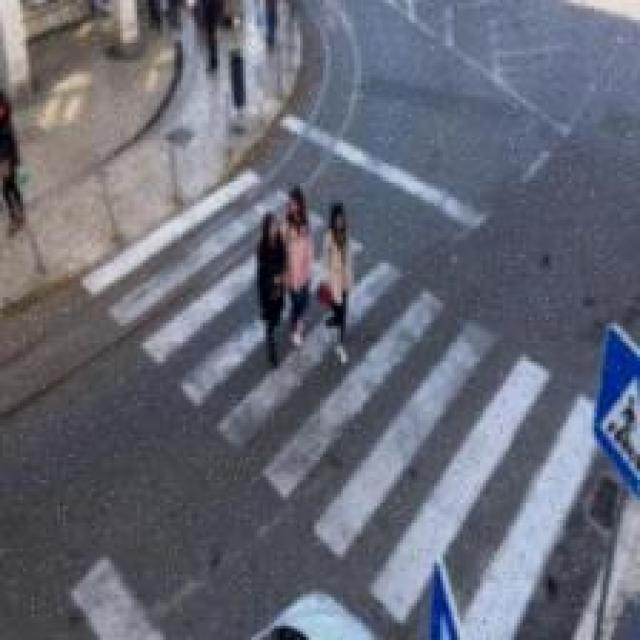crosswalk: (77, 166, 640, 640)
